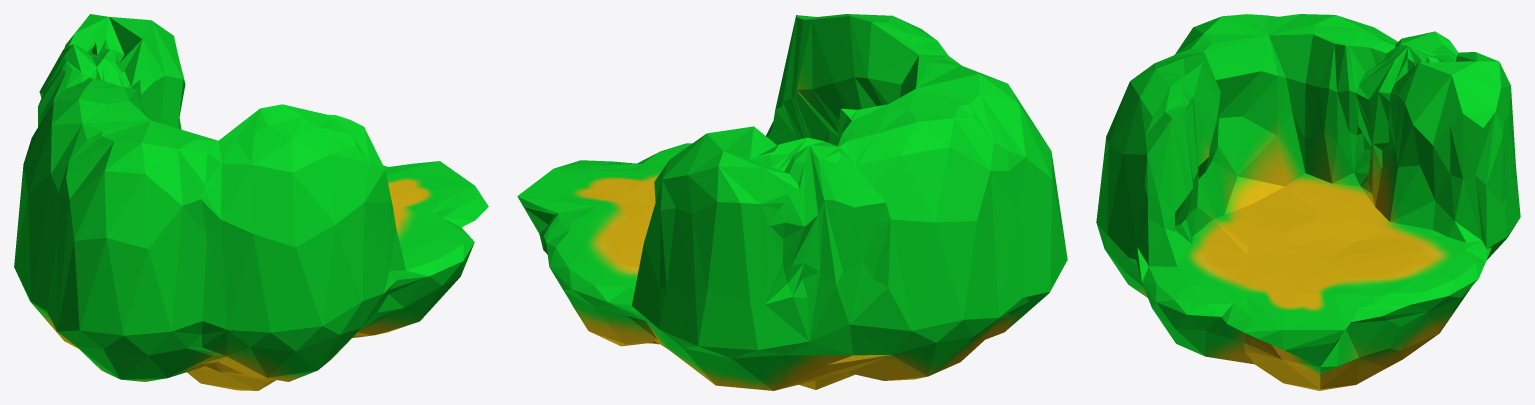
File: landC.obj
The picture shows the model from 3 angles, left to right: view 1: azimuth 30°, elevation 25°; view 2: azimuth 150°, elevation 25°; view 3: azimuth 270°, elevation 25°; orthographic projection. The views are drawn at different scales.
Parts seen in each view (by area): view 1: Ico_球體.004; view 2: Ico_球體.004; view 3: Ico_球體.004.
Boxes of the visible parts, box(x1,y1,x2,y2) form: Ico_球體.004: box(14, 14, 488, 390); Ico_球體.004: box(517, 14, 1067, 390); Ico_球體.004: box(1096, 14, 1520, 390).
Size of the model in its own units: 306 by 207 by 269.
1 material, 1 textured.
